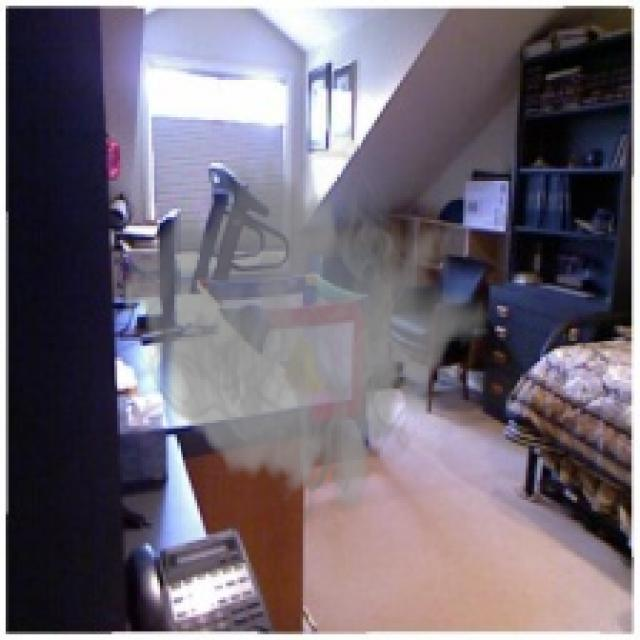smoke: (117, 132, 492, 528)
